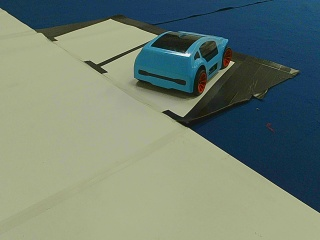car: (134, 29, 234, 97)
